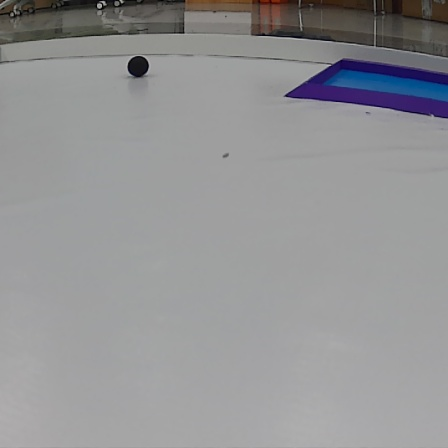black: (128, 56, 150, 76)
blue_aim: (285, 58, 448, 120)
